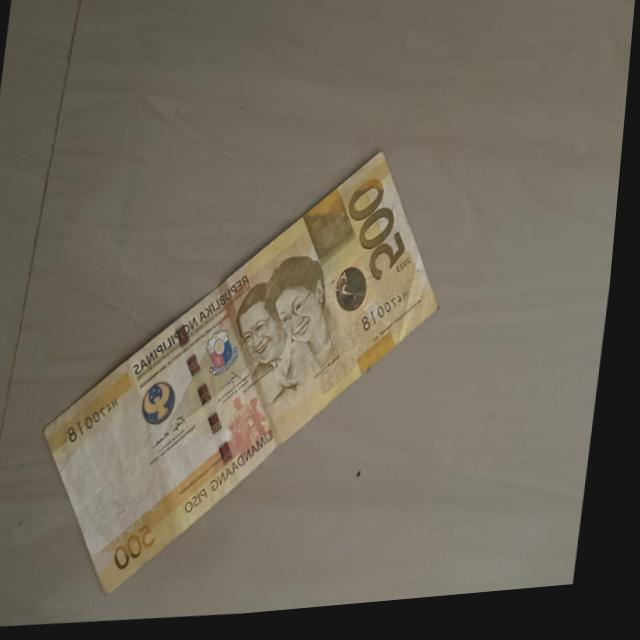concealed_value: (309, 192, 360, 258)
optically_variable_device: (338, 265, 380, 325)
see_through_mark: (107, 497, 171, 557)
